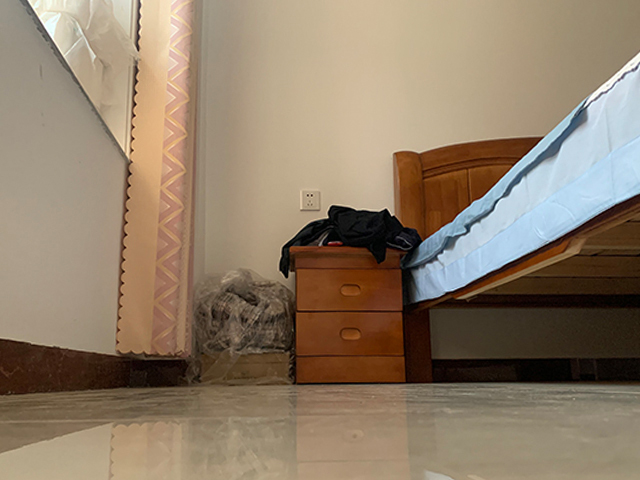bed: (393, 52, 640, 385)
cabinet: (289, 244, 406, 384)
curtain: (114, 1, 202, 360)
